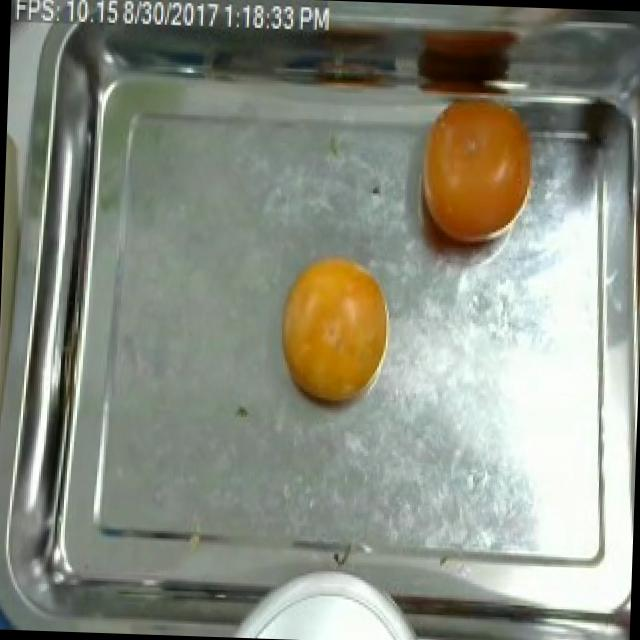Fruit: (400, 84, 546, 264), (268, 244, 398, 422), (399, 5, 531, 119)
